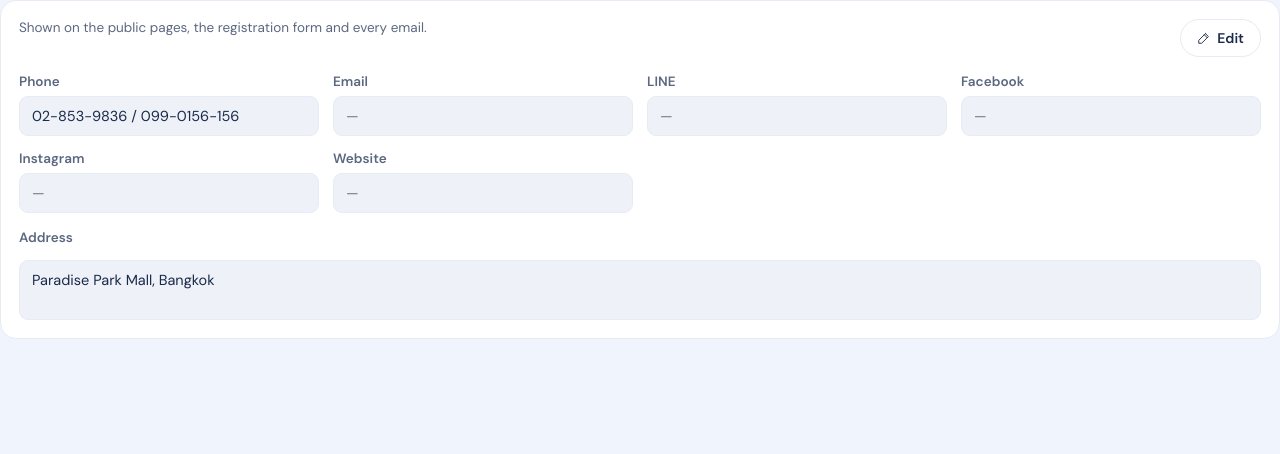
it: Academy Contact › puts back what is saved on Cancel
The width and height of the screenshot is (1280, 454).
Click the button "Edit".
click(1221, 38)  # box [1180, 19, 1261, 57]
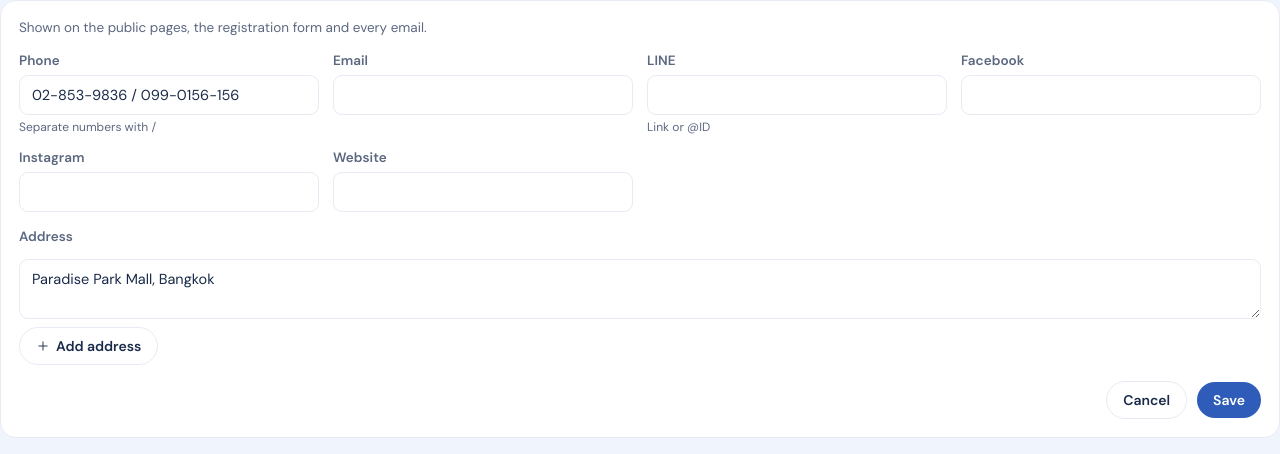
Replace the text in the field labelled "Phone Separate numbers with /" with "000" at [169, 95], box [19, 75, 319, 115]
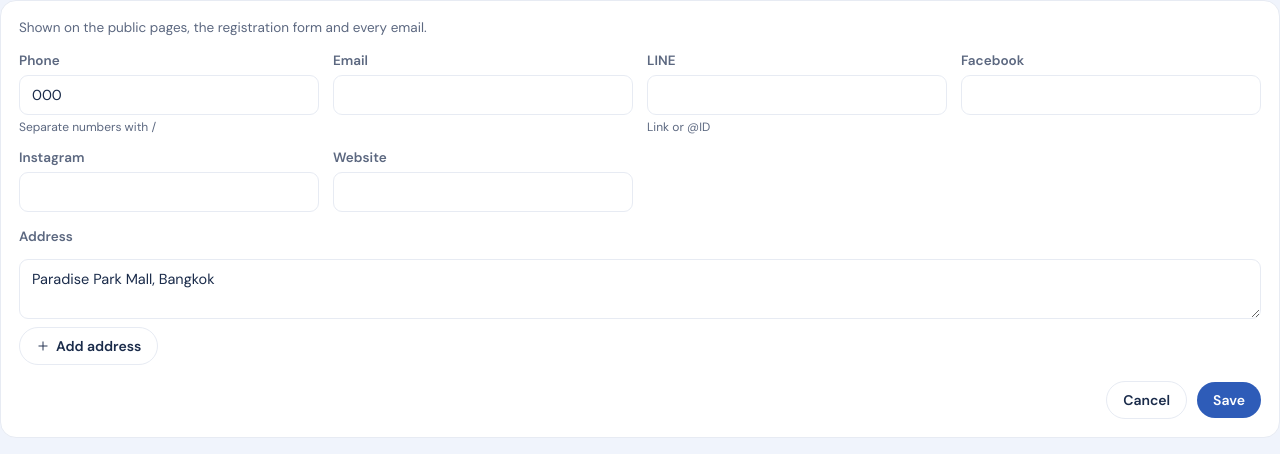
Click the button "Cancel".
click(1147, 400)  # box [1106, 381, 1187, 419]
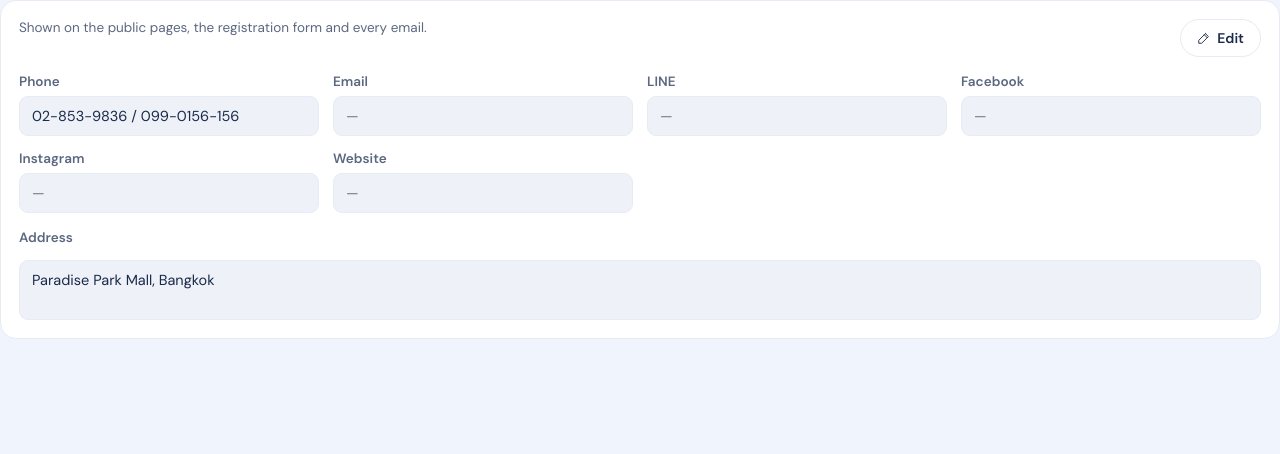
Expected: the field labelled "Phone" holds "02-853-9836 / 099-0156-156", [19, 96, 319, 136]
